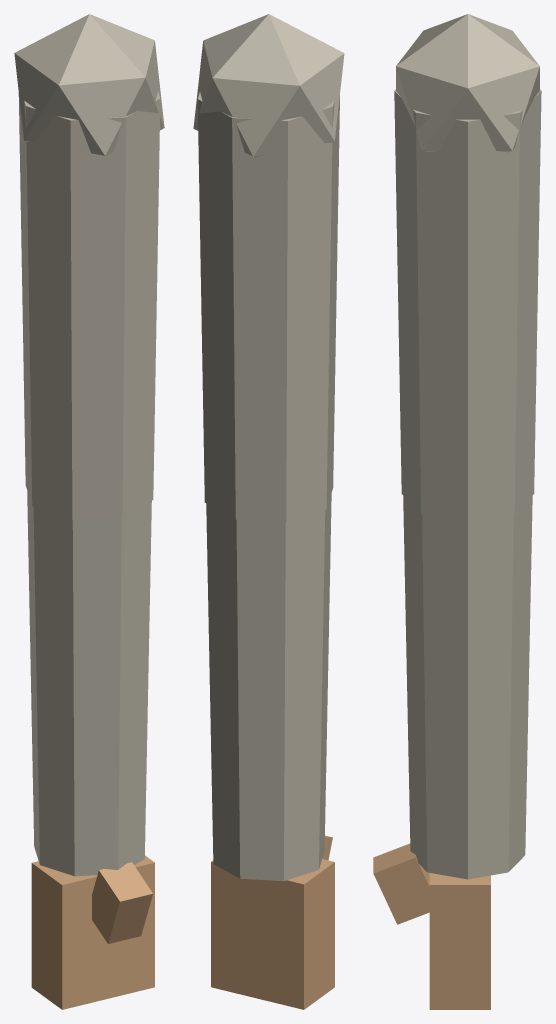
The model's file is PersonHelper3ArmR.obj.
3 views of the same model, side by side, from view 1: azimuth 30°, elevation 25°; view 2: azimuth 150°, elevation 25°; view 3: azimuth 270°, elevation 25° (orthographic).
Visible parts, largest first — view 1: PersonHelper3ArmR; view 2: PersonHelper3ArmR; view 3: PersonHelper3ArmR.
Boxes of the visible parts, x1,y1,x2,y2 form: PersonHelper3ArmR: [14, 14, 164, 1009]; PersonHelper3ArmR: [193, 14, 344, 1009]; PersonHelper3ArmR: [373, 14, 541, 1009].
Bounding box in the file's own units: 0.0987 × 0.7002 × 0.1096.
